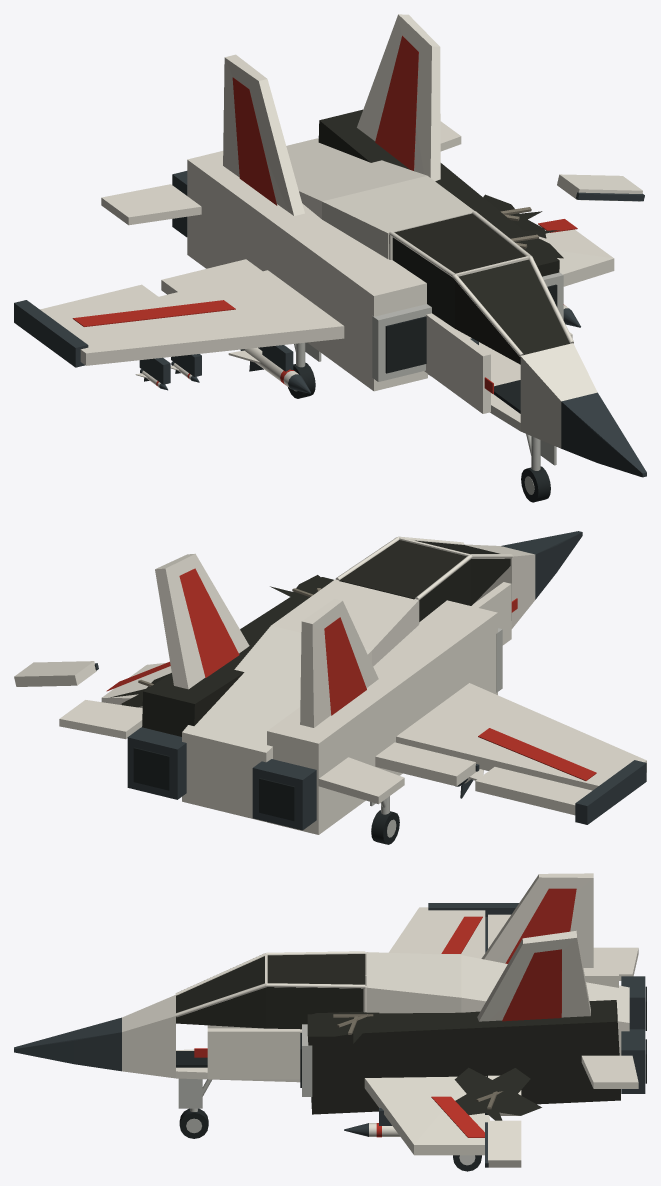
3 views of the same model, one above another, from view 1: azimuth 30°, elevation 25°; view 2: azimuth 150°, elevation 25°; view 3: azimuth 270°, elevation 25° (orthographic). The views are drawn at different scales.
Visible parts, largest first — view 1: jet-a-damaged-fleet-armor, jet-a-damaged-fleet-damage-charred, jet-a-damaged-fleet-red, jet-a-damaged-fleet-machine, jet-a-damaged-fleet-rubber, elevator-left-fleet-armor, jet-a-damaged-fleet-edge, aileron-right-painted, aileron-left-painted, flap-left-painted, store-left-large-painted, gear-wheel-nose-0-0-painted; view 2: jet-a-damaged-fleet-armor, jet-a-damaged-fleet-damage-charred, jet-a-damaged-fleet-machine, jet-a-damaged-fleet-red, aileron-left-painted, flap-left-painted, jet-a-damaged-fleet-rubber, elevator-left-fleet-armor, elevator-right-fleet-armor, aileron-right-painted, gear-wheel-left-0-0-painted; view 3: jet-a-damaged-fleet-armor, jet-a-damaged-fleet-damage-charred, jet-a-damaged-fleet-red, jet-a-damaged-fleet-machine, aileron-right-painted, elevator-right-fleet-armor, landing-gear-nose-painted, jet-a-damaged-fleet-rubber, elevator-left-fleet-armor, gear-wheel-nose-0-0-painted, jet-a-damaged-fleet-edge, store-right-large-painted (+2 smaller).
Part boxes in pixels (box(x1,y1,x2,y2)): jet-a-damaged-fleet-armor: box(57, 14, 614, 448); jet-a-damaged-fleet-damage-charred: box(318, 109, 569, 364); jet-a-damaged-fleet-red: box(72, 35, 577, 393); jet-a-damaged-fleet-machine: box(14, 171, 646, 477); jet-a-damaged-fleet-rubber: box(385, 284, 557, 413); elevator-left-fleet-armor: box(101, 184, 201, 225); jet-a-damaged-fleet-edge: box(372, 272, 563, 381); aileron-right-painted: box(557, 174, 644, 201); aileron-left-painted: box(40, 284, 158, 321); flap-left-painted: box(161, 259, 262, 294); store-left-large-painted: box(228, 347, 310, 393); gear-wheel-nose-0-0-painted: box(521, 466, 550, 502); jet-a-damaged-fleet-armor: box(101, 536, 646, 834); jet-a-damaged-fleet-damage-charred: box(110, 540, 510, 736); jet-a-damaged-fleet-machine: box(127, 531, 646, 830); jet-a-damaged-fleet-red: box(106, 568, 596, 780); aileron-left-painted: box(475, 767, 592, 815); flap-left-painted: box(375, 742, 479, 786); jet-a-damaged-fleet-rubber: box(133, 747, 295, 821); elevator-left-fleet-armor: box(318, 757, 404, 804); elevator-right-fleet-armor: box(59, 700, 142, 739); aileron-right-painted: box(14, 661, 98, 686); gear-wheel-left-0-0-painted: box(371, 810, 399, 844); jet-a-damaged-fleet-armor: box(122, 873, 629, 1155); jet-a-damaged-fleet-damage-charred: box(176, 954, 620, 1120); jet-a-damaged-fleet-red: box(194, 888, 576, 1137); jet-a-damaged-fleet-machine: box(14, 903, 645, 1125); aileron-right-painted: box(485, 1120, 521, 1167); elevator-right-fleet-armor: box(581, 1055, 638, 1088); landing-gear-nose-painted: box(178, 1078, 211, 1111); jet-a-damaged-fleet-rubber: box(176, 986, 646, 1087); elevator-left-fleet-armor: box(593, 947, 638, 980); gear-wheel-nose-0-0-painted: box(179, 1108, 208, 1138); jet-a-damaged-fleet-edge: box(302, 1024, 312, 1096); store-right-large-painted: box(344, 1123, 400, 1137).
Size of the model in its own units: 67.21 by 31.25 by 73.68.
